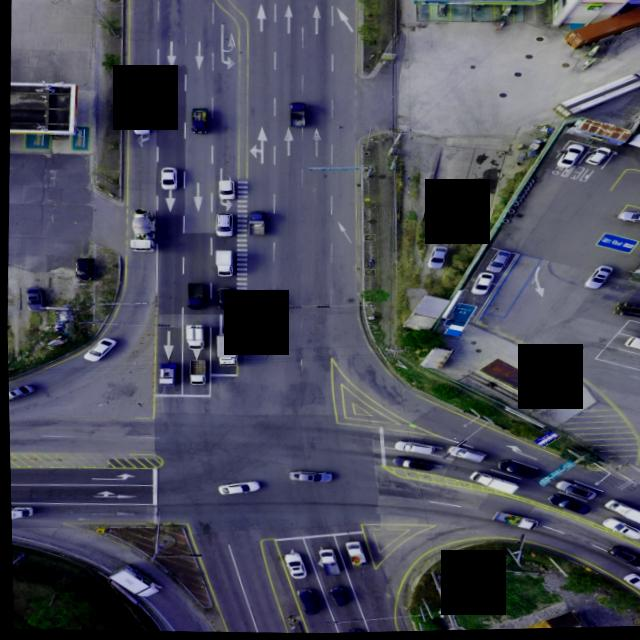car: (464, 472, 517, 497), (599, 519, 640, 542), (82, 335, 118, 360), (548, 494, 589, 515), (553, 480, 596, 500), (495, 458, 538, 478), (444, 445, 486, 464), (605, 546, 640, 568), (216, 479, 260, 496), (280, 550, 307, 577), (583, 267, 613, 291), (393, 438, 436, 453), (391, 458, 434, 473), (286, 470, 332, 484), (486, 251, 513, 274), (295, 587, 318, 614), (71, 255, 94, 282), (585, 146, 614, 166), (469, 272, 494, 295), (213, 212, 234, 238), (24, 285, 45, 311), (557, 150, 584, 170), (426, 247, 448, 271), (132, 109, 152, 134), (258, 288, 277, 313), (7, 382, 32, 401), (160, 165, 180, 188), (620, 573, 640, 596), (215, 288, 234, 311), (327, 585, 347, 606), (217, 177, 236, 199), (619, 211, 640, 224), (343, 628, 365, 634)
medium_truck: (552, 68, 640, 119), (129, 210, 158, 253), (212, 331, 238, 367), (611, 303, 640, 321)
small_bus: (620, 339, 640, 354)
small_truck: (108, 566, 161, 600), (601, 501, 640, 527), (491, 511, 538, 531), (314, 548, 341, 577), (342, 539, 367, 566), (212, 247, 235, 276), (183, 281, 205, 309), (184, 358, 206, 385), (183, 323, 204, 350), (156, 359, 178, 384), (246, 210, 267, 236), (188, 106, 208, 133), (287, 101, 307, 127), (9, 506, 34, 521)
